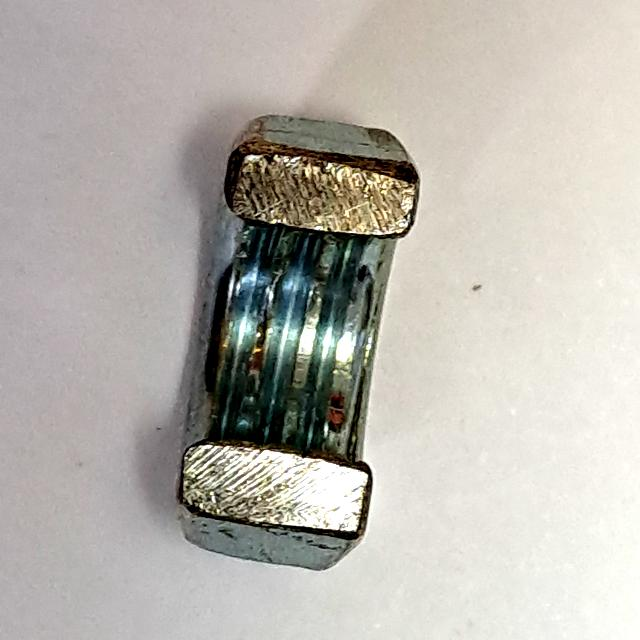Side-Fracture: (164, 102, 427, 584)
